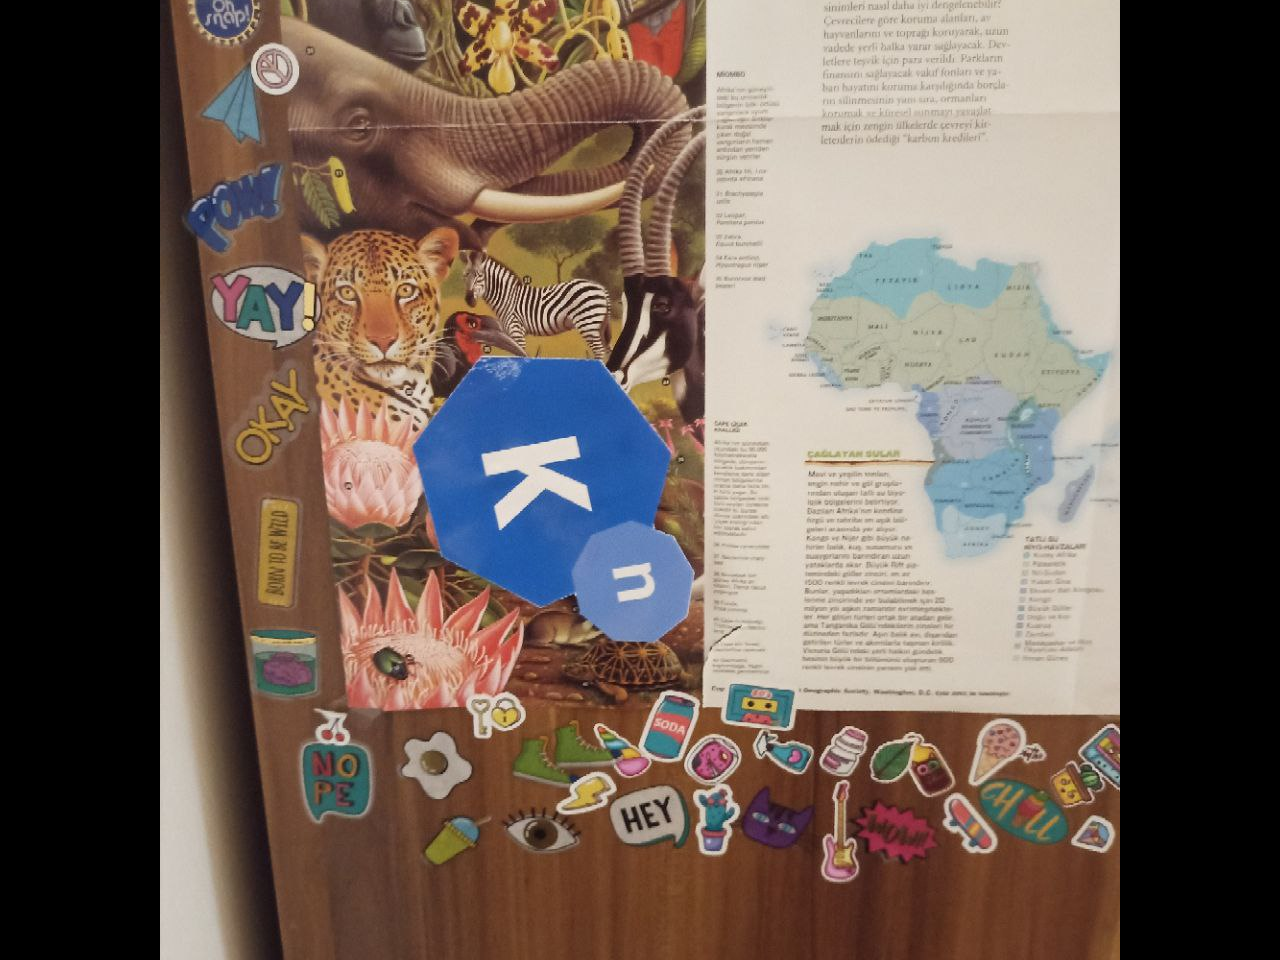knative: (415, 358, 694, 642)
